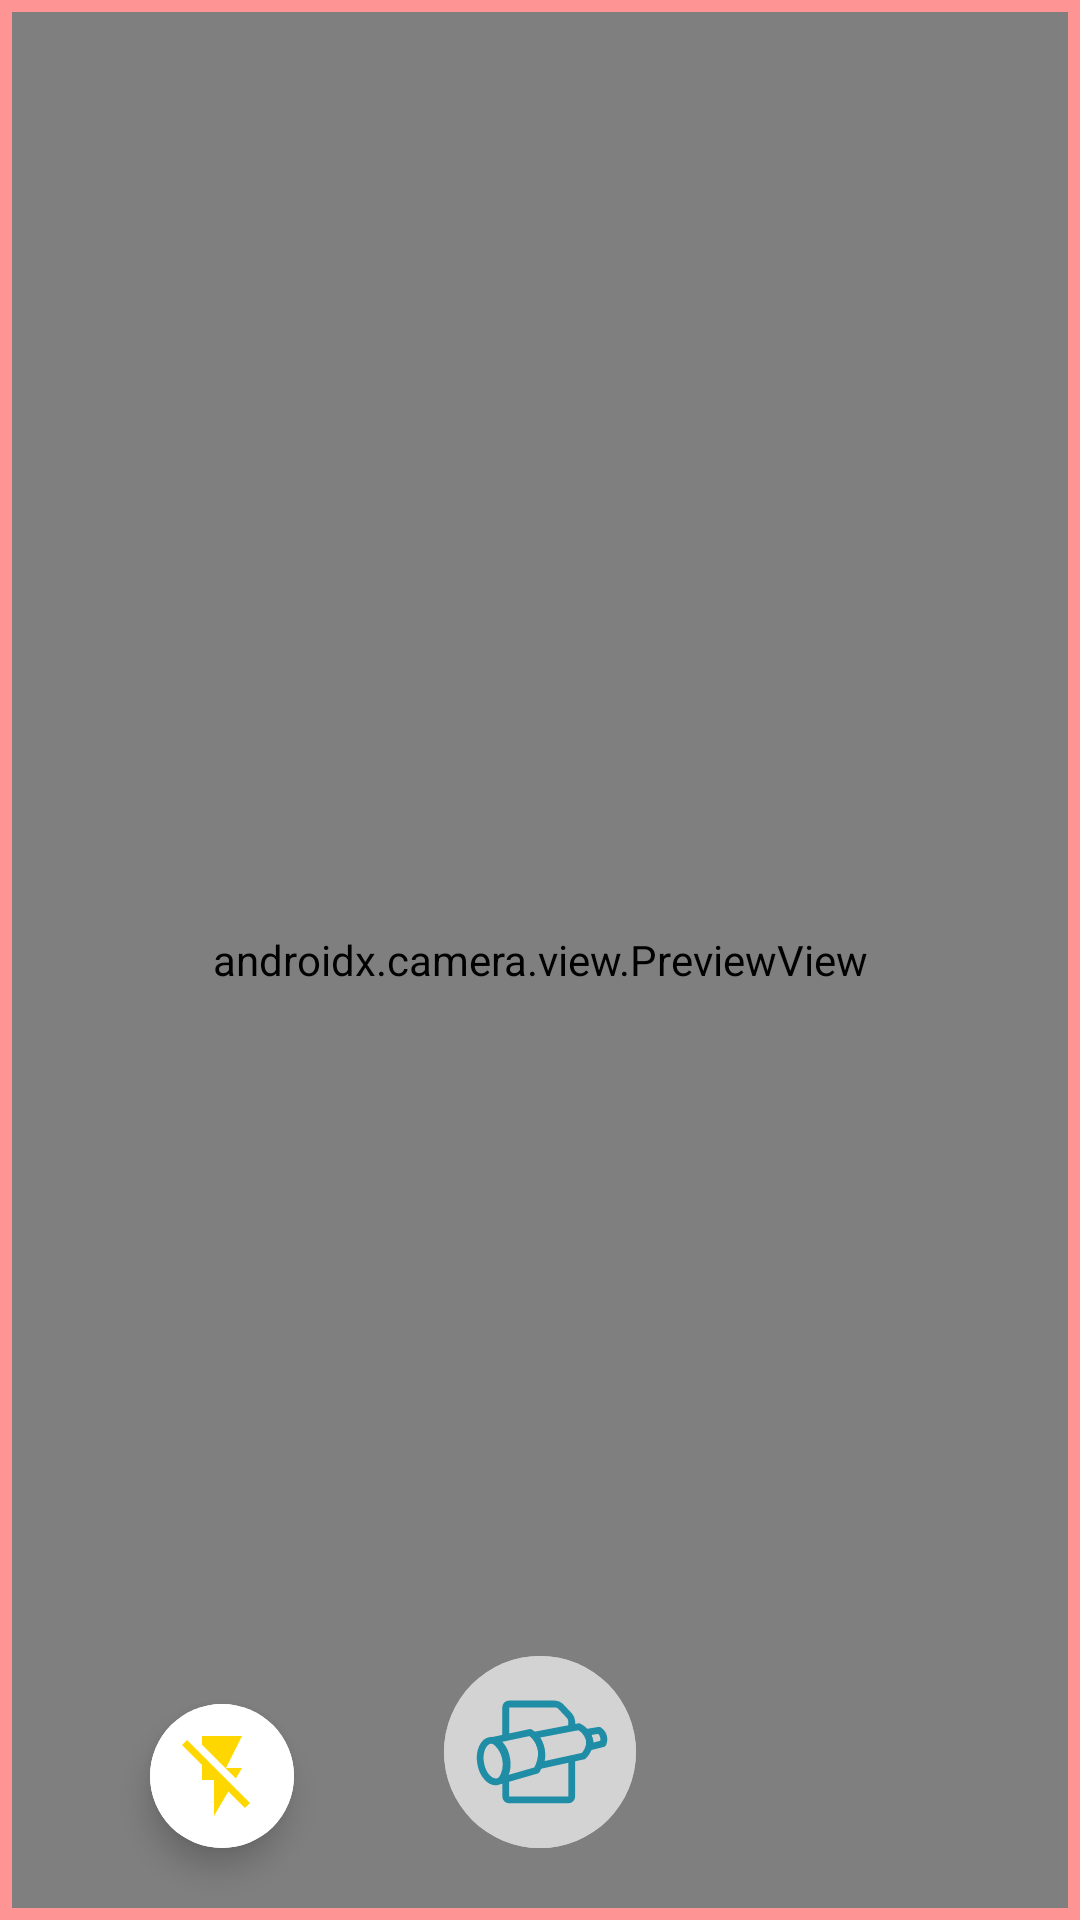

Where to tap for icons on this 1080px×1920px app screen, as [x,y]:
flash off: [222,1776]
spyglass: [540,1752]
